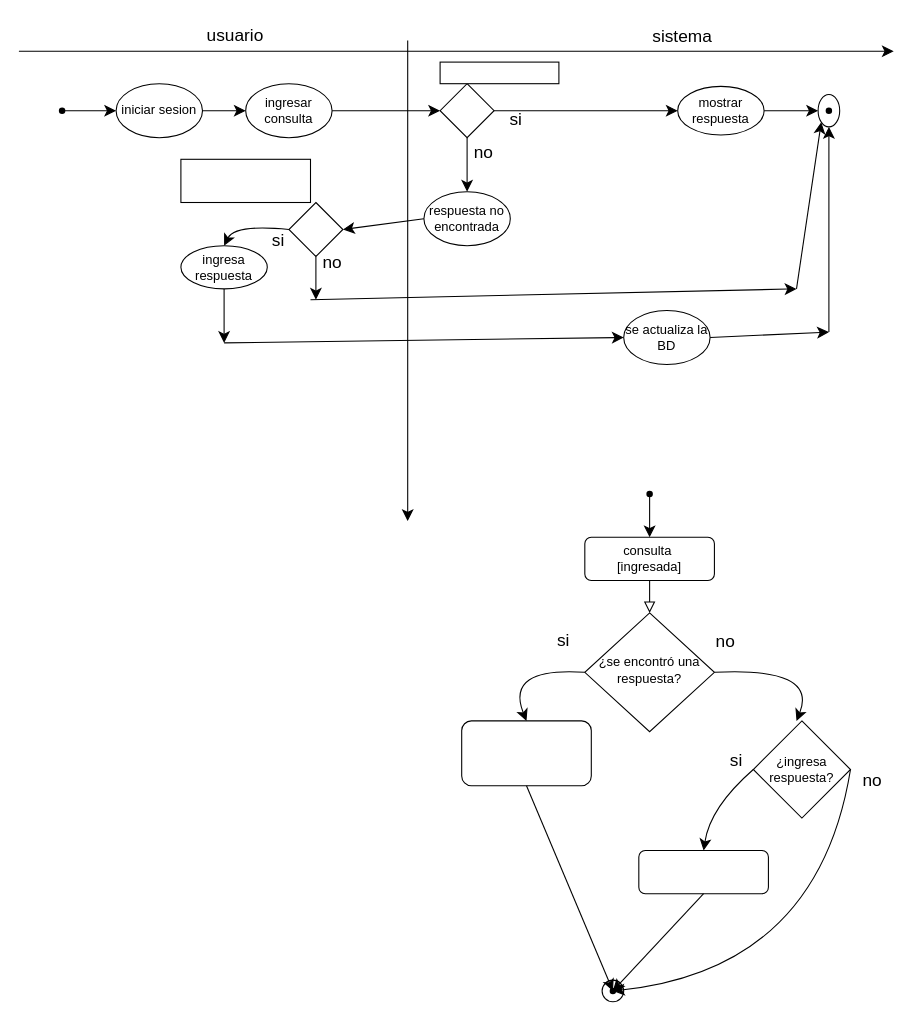
Image size: 913x1021. Some labels were removed from this diagram. The centre of each missing label's shape, as x and y in pixels:
consulta [actualizada]: (703,871)
consulta [mostrada]: (526,753)
¿existe la consulta?: (499,72)
¿quiere ingresar una respuesta?: (245,180)
